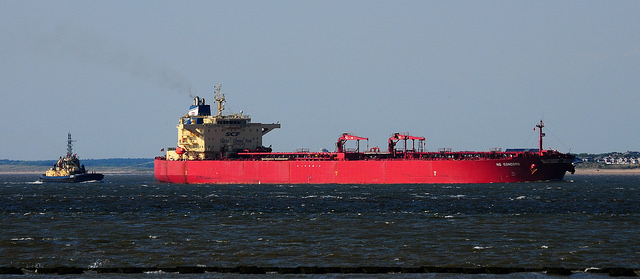tanker: (151, 85, 572, 187)
tug_boat: (40, 129, 101, 184)
